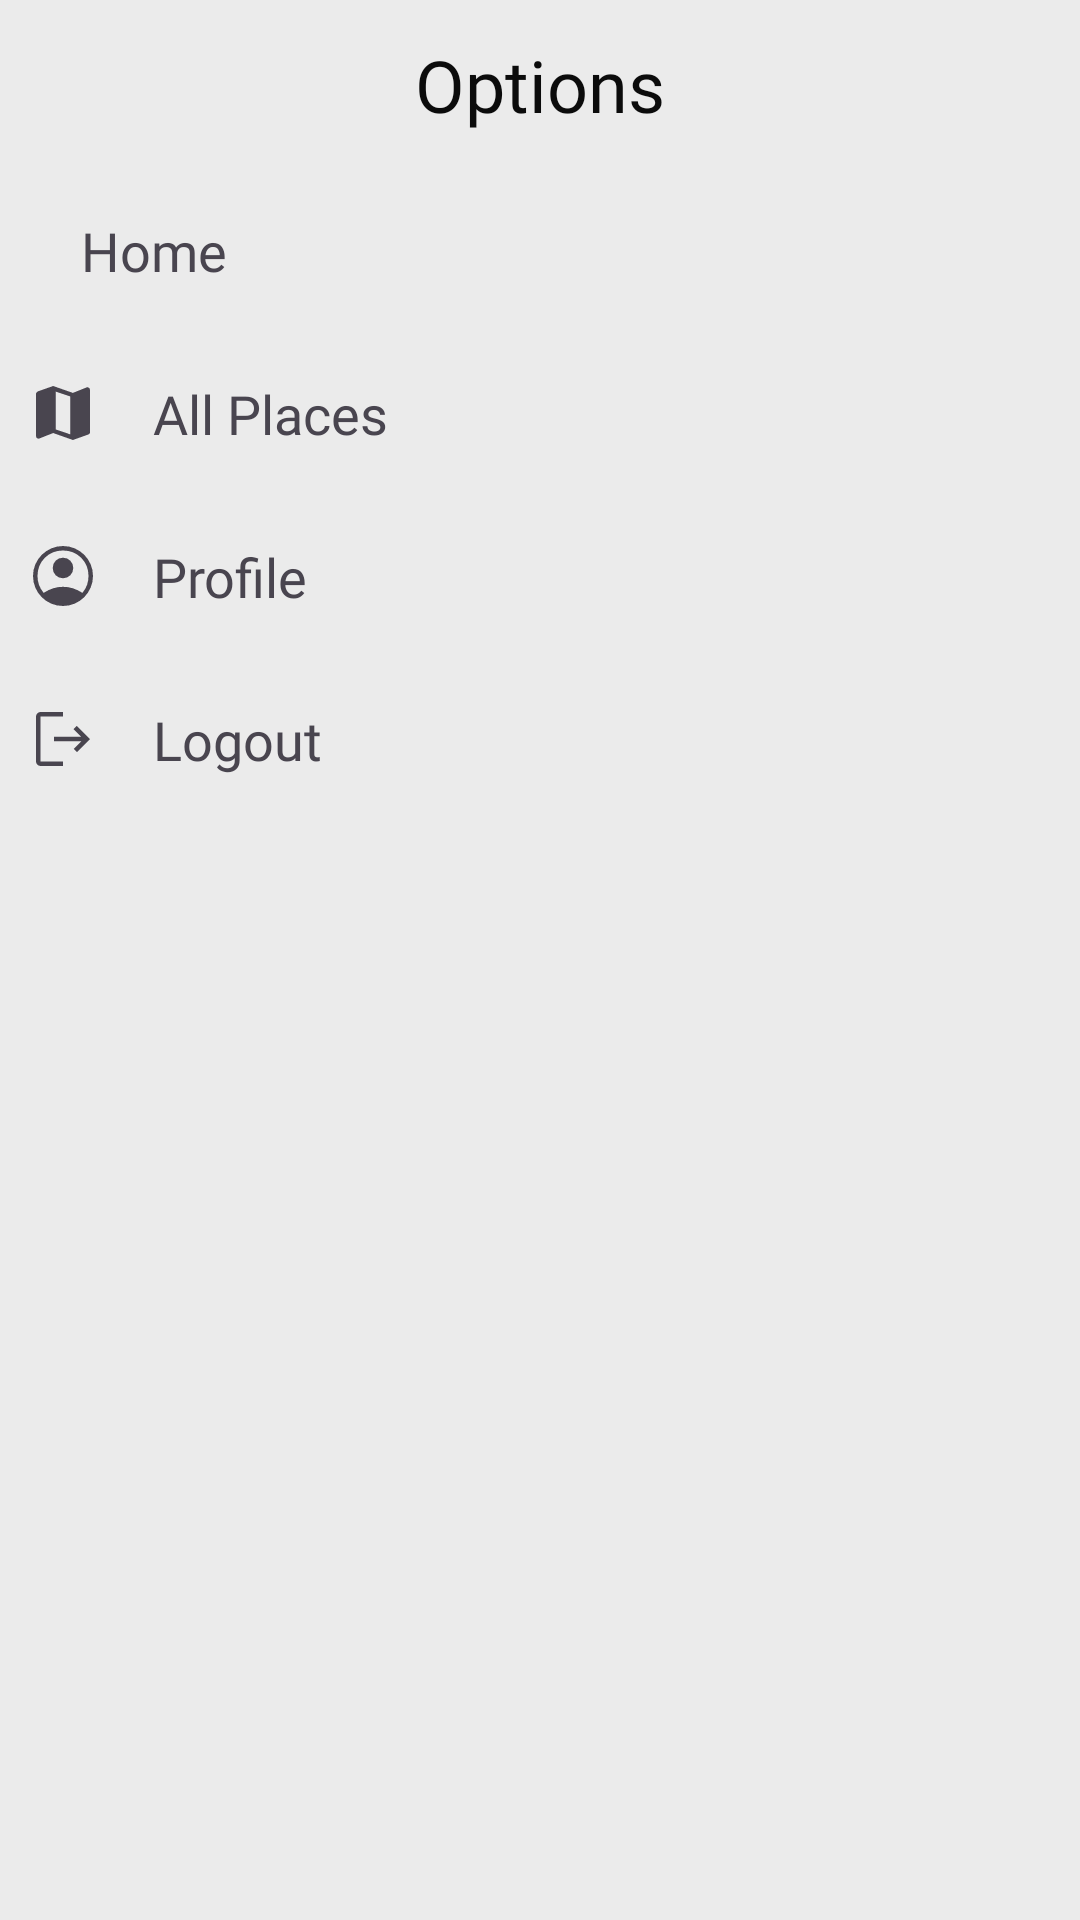

Screen size 1080w x 1920h. Icon name, then its box in pixels as {"x1": x1, "y1": y1, "x2": x2, "y2": y2}:
account: {"x1": 33, "y1": 546, "x2": 93, "y2": 606}
